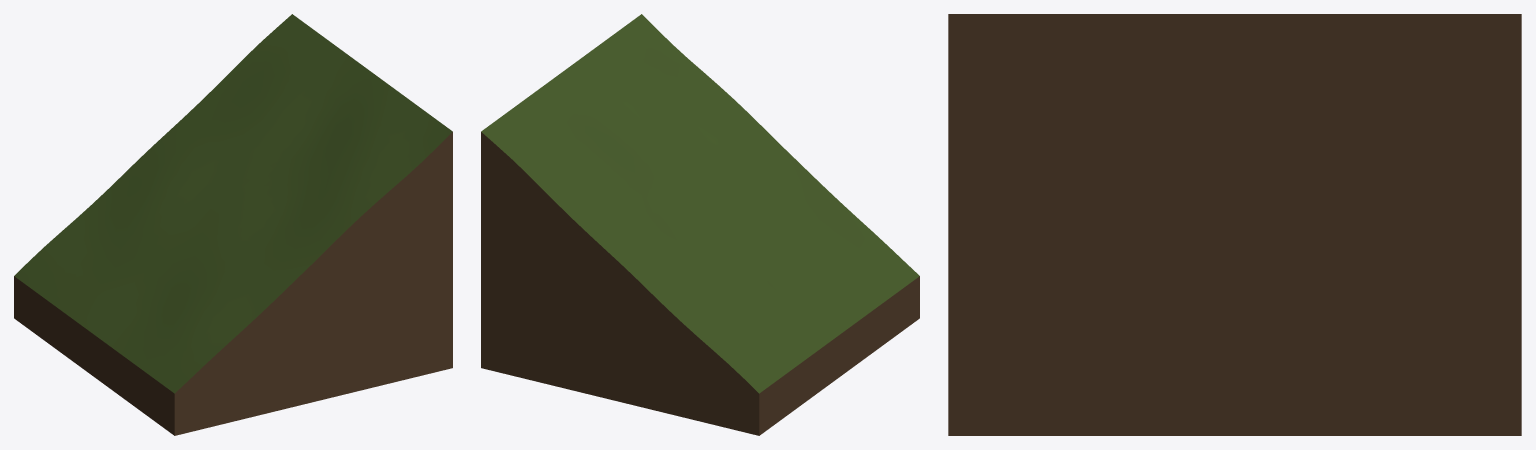
3 renders of one model, left to right at view 1: azimuth 30°, elevation 25°; view 2: azimuth 150°, elevation 25°; view 3: azimuth 270°, elevation 25°, orthographic. The views are drawn at different scales.
Visible parts, largest first — view 1: b3go; view 2: b3go; view 3: b3go.
Boxes of the visible parts, x1,y1,x2,y2 form: b3go: [14, 14, 452, 435]; b3go: [481, 14, 919, 435]; b3go: [948, 14, 1521, 435].
Size of the model in its own units: 9 by 7.31 by 9.
